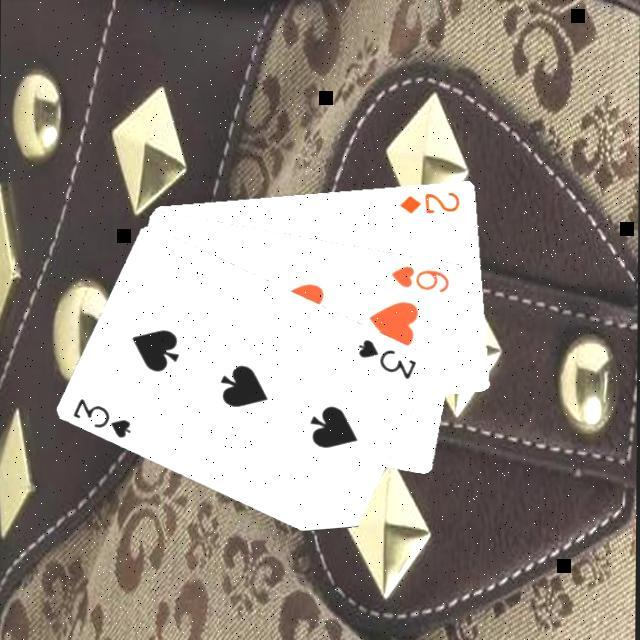2D: (398, 187, 464, 216)
3S: (356, 334, 422, 382), (71, 394, 137, 441)
6H: (389, 261, 455, 295)
